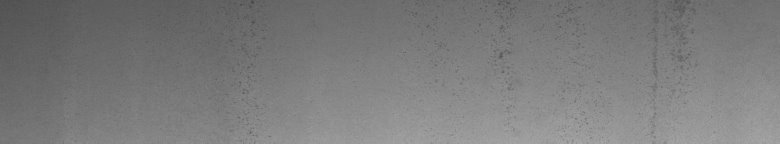ib: (491, 4, 584, 120)
